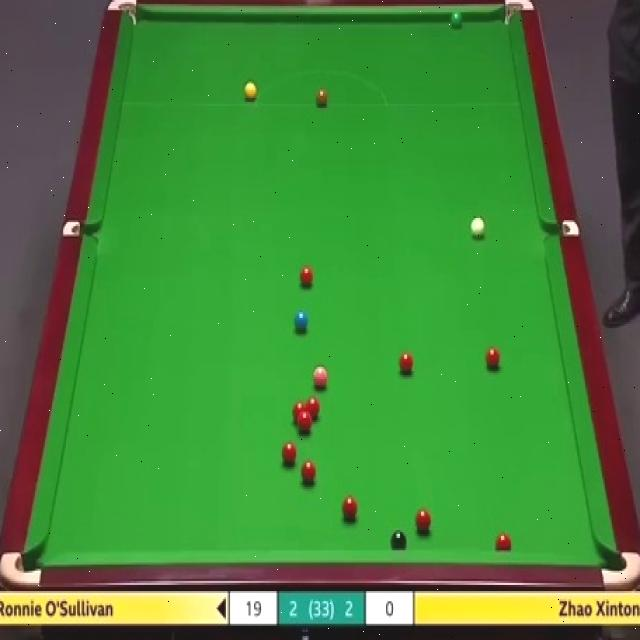black-ball: (391, 529, 407, 551)
blue-ball: (293, 309, 310, 332)
brown-ball: (316, 85, 328, 106)
green-ball: (450, 7, 464, 27)
pink-ball: (314, 364, 331, 392)
red-ball: (414, 509, 432, 537), (342, 494, 359, 523), (301, 456, 318, 484), (398, 349, 414, 376), (484, 346, 500, 372), (298, 265, 314, 291), (282, 438, 296, 465), (292, 401, 306, 427), (306, 397, 320, 421), (494, 532, 512, 550), (298, 414, 313, 434)
white-ball: (472, 215, 489, 238)
yellow-ball: (243, 84, 256, 100)
